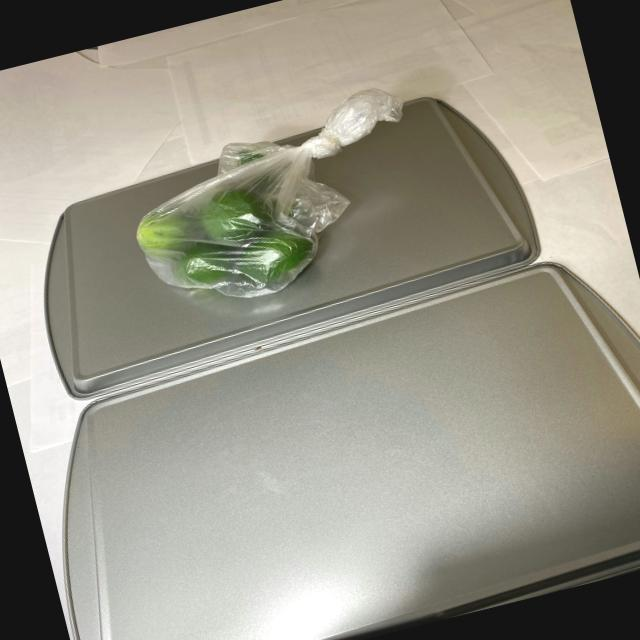lemon: (116, 134, 338, 326)
